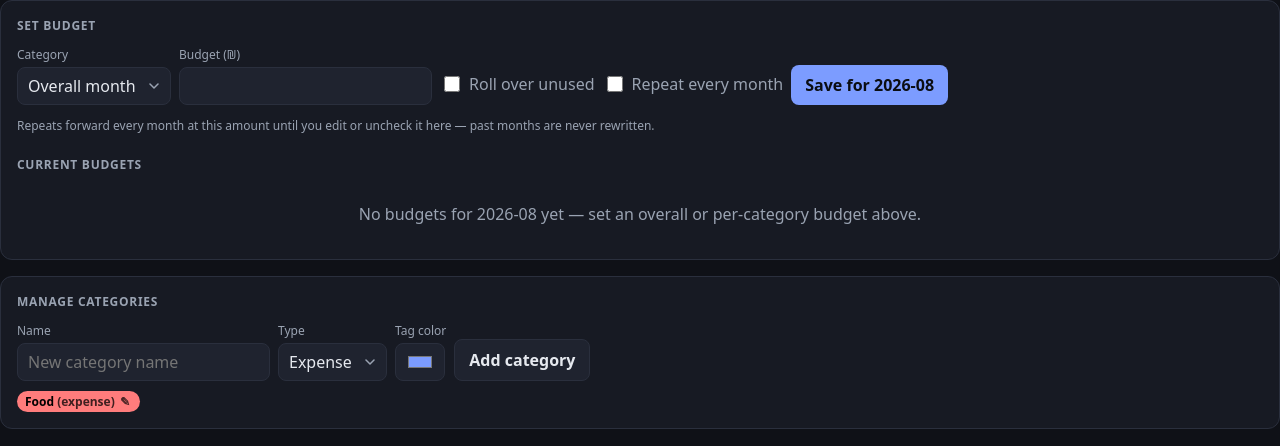
Test: saves the selected native color for an edited category
Later steps or results of the test are not shown.
Click the button named "Edit category Food": (125, 402) [118,393,132,410]
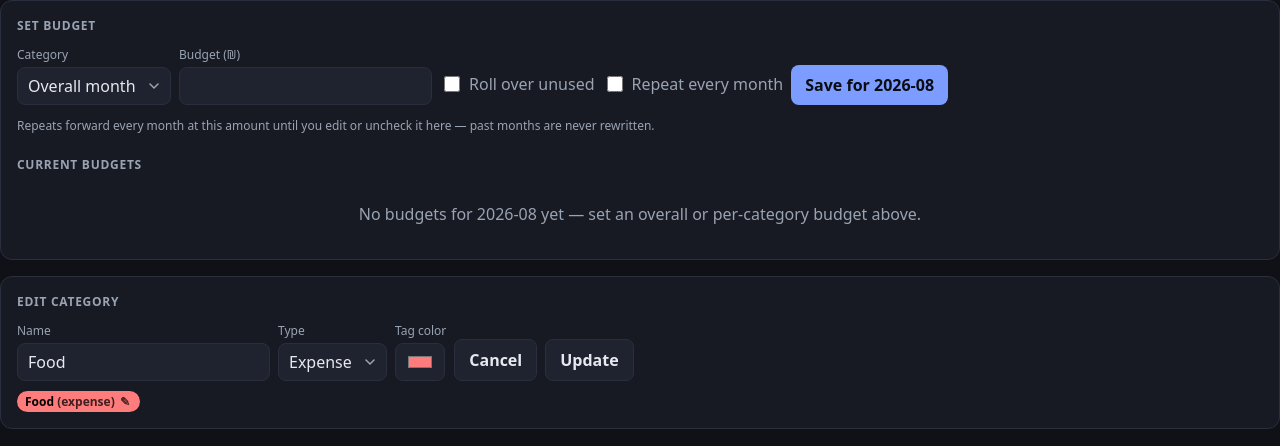
Expected: the colour field labelled "Tag color" holds "#ff7c7c", [395,343,445,381]
